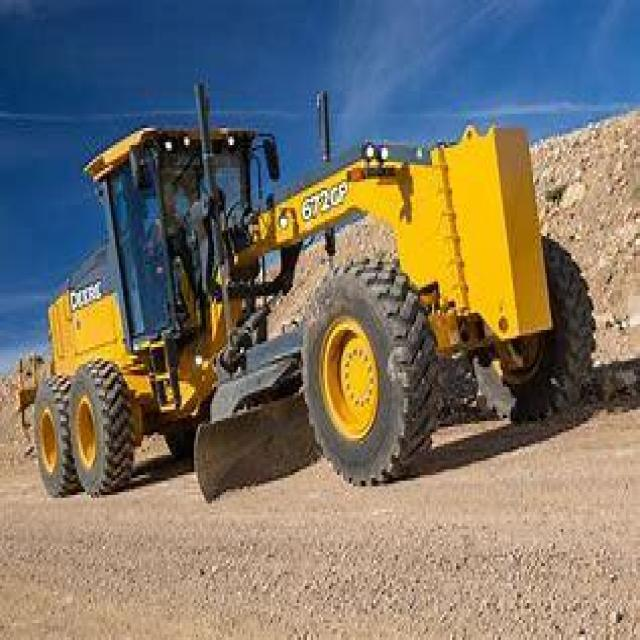buldozerpayloadergrader: (18, 86, 596, 503)
